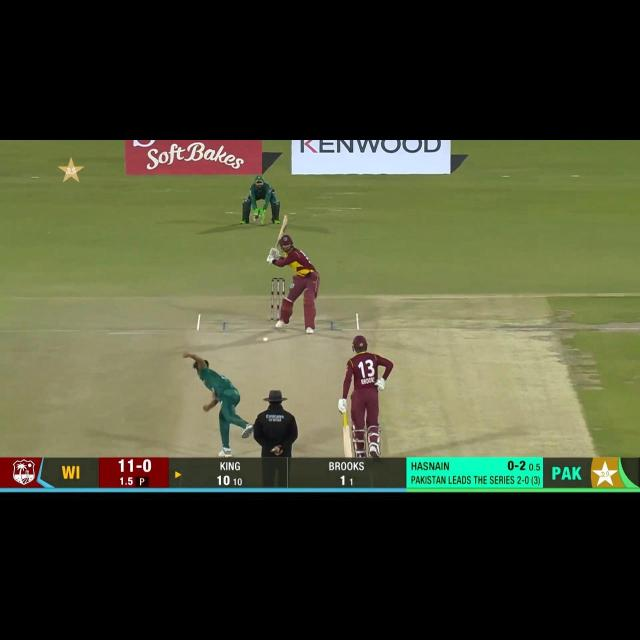bat: (273, 214, 290, 250), (342, 426, 354, 459)
toe: (283, 214, 290, 225)
